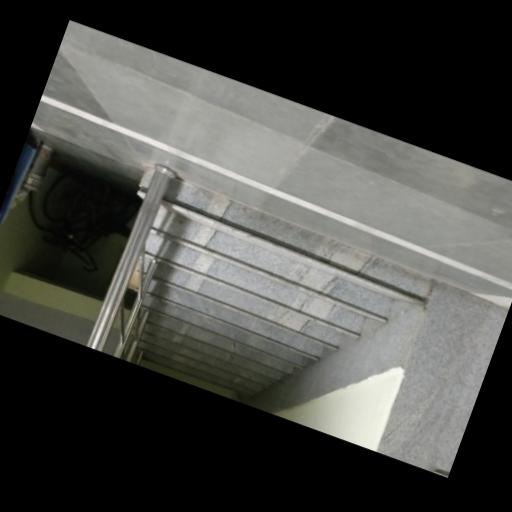stairs: (139, 179, 430, 393)
